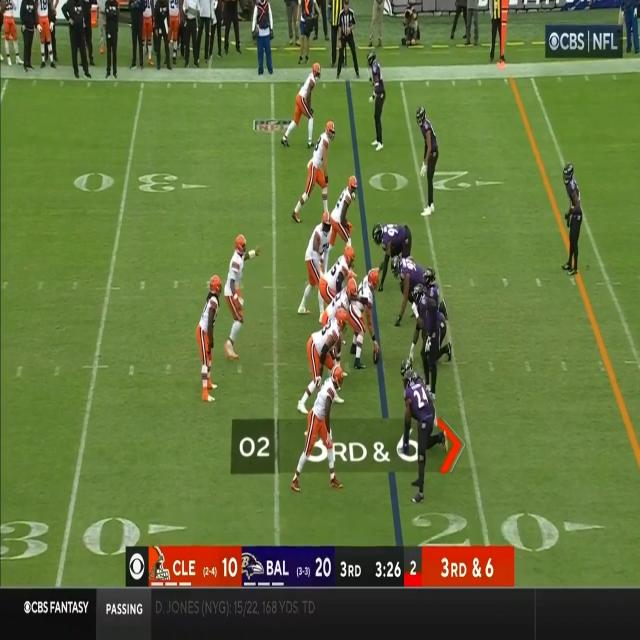players: (294, 364, 346, 500), (398, 362, 446, 507), (293, 116, 338, 225), (296, 213, 341, 314), (297, 315, 342, 413), (224, 232, 258, 361), (340, 274, 382, 369), (281, 64, 325, 152), (421, 281, 451, 403), (197, 280, 223, 404), (322, 181, 359, 265), (415, 108, 442, 223), (317, 258, 358, 325), (562, 163, 586, 277), (379, 224, 418, 292), (398, 257, 432, 333), (365, 50, 388, 152)
